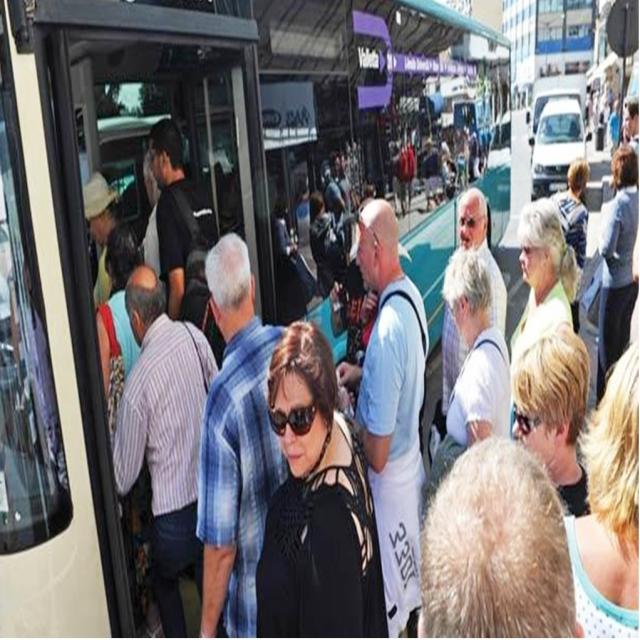body: (412, 346, 640, 639), (247, 310, 396, 639), (333, 196, 433, 640), (110, 264, 226, 639), (194, 233, 289, 640), (94, 219, 166, 638), (373, 66, 511, 218), (147, 115, 226, 372), (0, 252, 68, 548), (508, 194, 582, 440), (434, 242, 514, 452), (509, 317, 591, 518), (440, 186, 509, 423), (594, 140, 639, 410), (296, 140, 373, 242), (549, 157, 591, 335), (577, 60, 639, 160), (80, 170, 121, 313), (308, 189, 338, 299), (137, 146, 159, 278), (272, 194, 301, 272)
